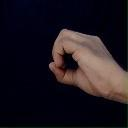hand: (48, 28, 127, 104)
